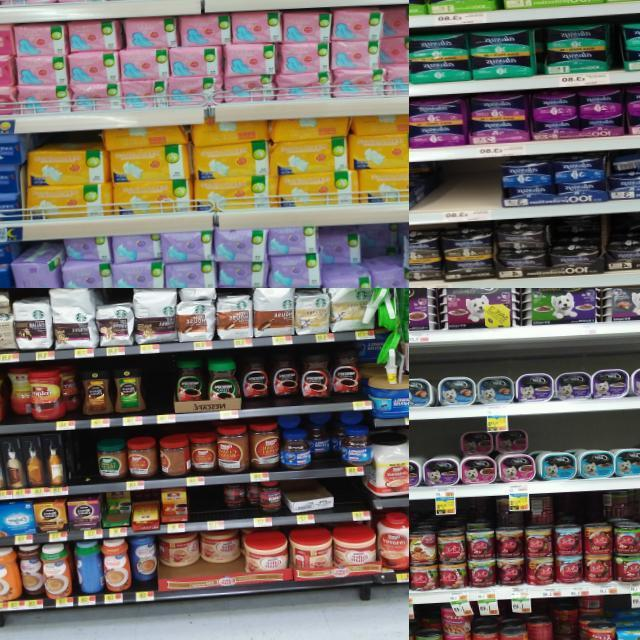Imprecise: (498, 492, 560, 584), (314, 228, 406, 287), (159, 530, 240, 586), (464, 424, 528, 482), (602, 491, 640, 581), (555, 593, 611, 640), (219, 476, 260, 526), (304, 411, 342, 461)
